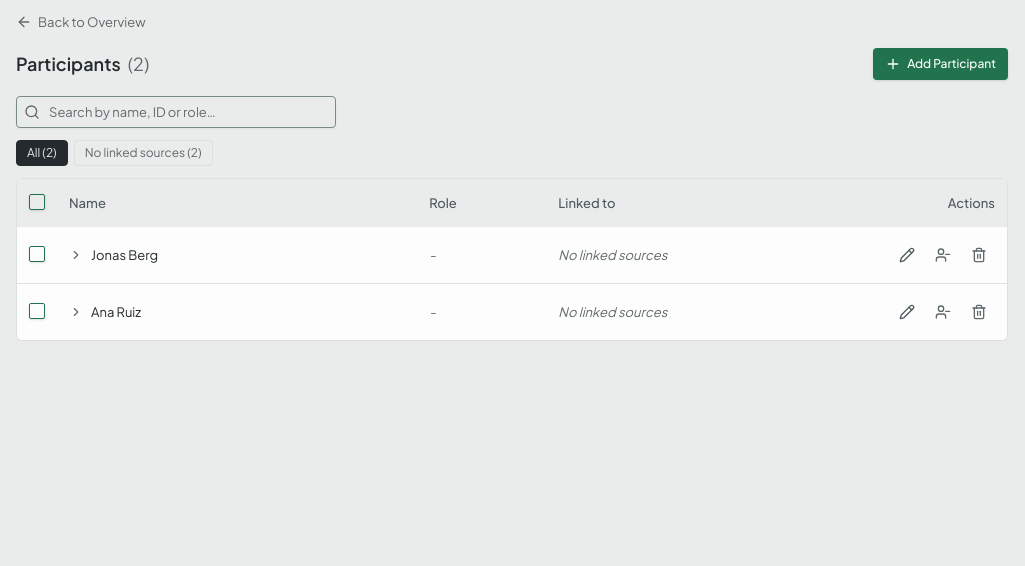
Test case: #1667 (D342) — the panel says it could not check, never vanishes › says why with a Retry, and a Retry that answers lands on the section heading
Check: the text "Jonas Berg" is shown, box [91,245,158,265]
Click the text "Jonas Berg".
click(512, 255)  # box [17,227,1007,284]
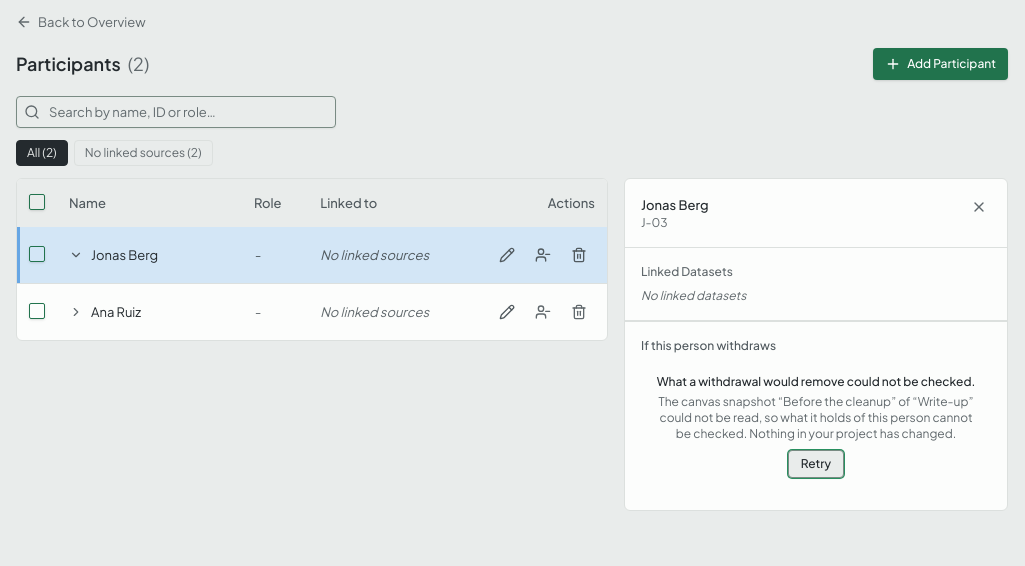
Check: the message shows "What a withdrawal would remove could not be checked.", box [657,374,975,389]
Click the button "Retry".
click(816, 464)  # box [788,450,844,478]
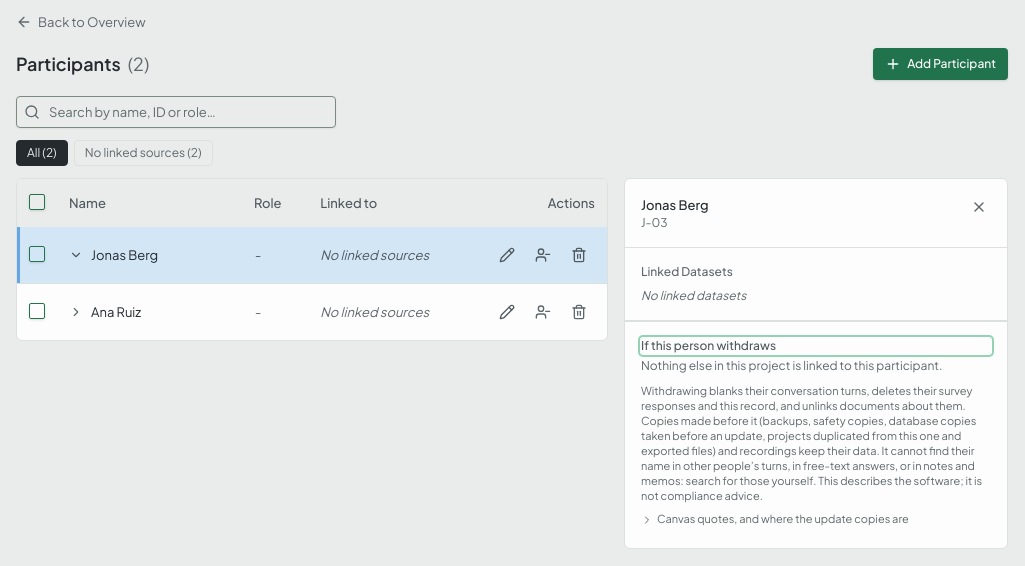
Check: the text "Nothing else in this project is linked to this participant." is shown, box [641,358,991,374]
